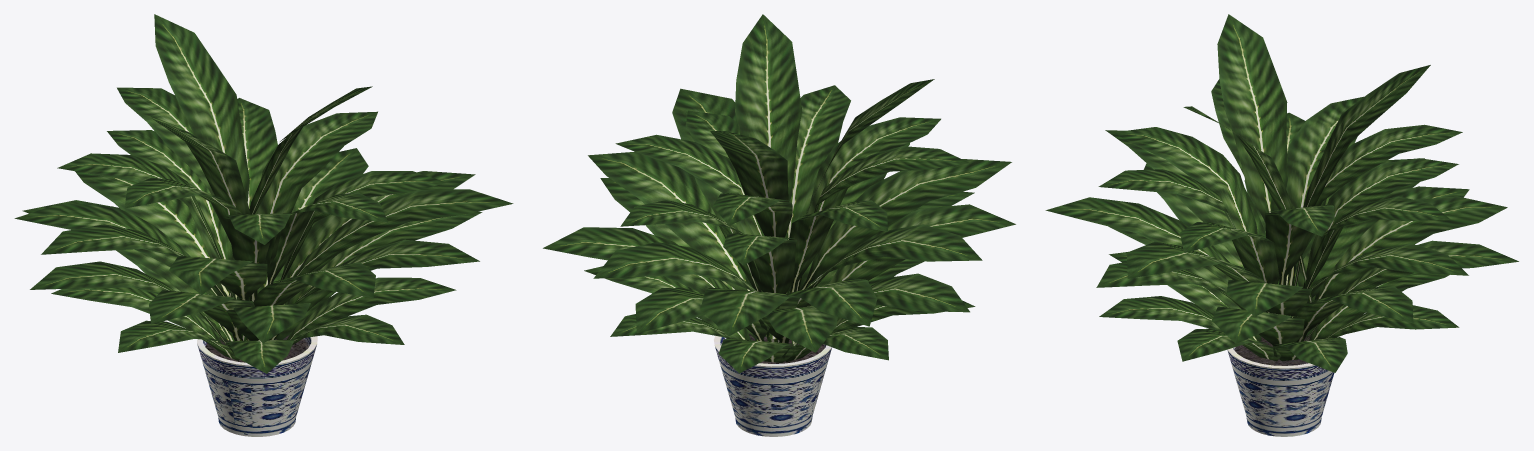
File: pottedPlant.gltf
3 views of the same model, side by side, from view 1: azimuth 30°, elevation 25°; view 2: azimuth 150°, elevation 25°; view 3: azimuth 270°, elevation 25° (orthographic). The views are drawn at different scales.
Visible parts, largest first — view 1: Lo-baiyuanye_02; view 2: Lo-baiyuanye_02; view 3: Lo-baiyuanye_02.
Part boxes in pixels (<box>): Lo-baiyuanye_02: <box>14,14,513,436</box>; Lo-baiyuanye_02: <box>543,14,1015,436</box>; Lo-baiyuanye_02: <box>1045,14,1518,436</box>.
Size of the model in its own units: 0.6133 by 0.5017 by 0.6271.
3 materials, 3 textured.
